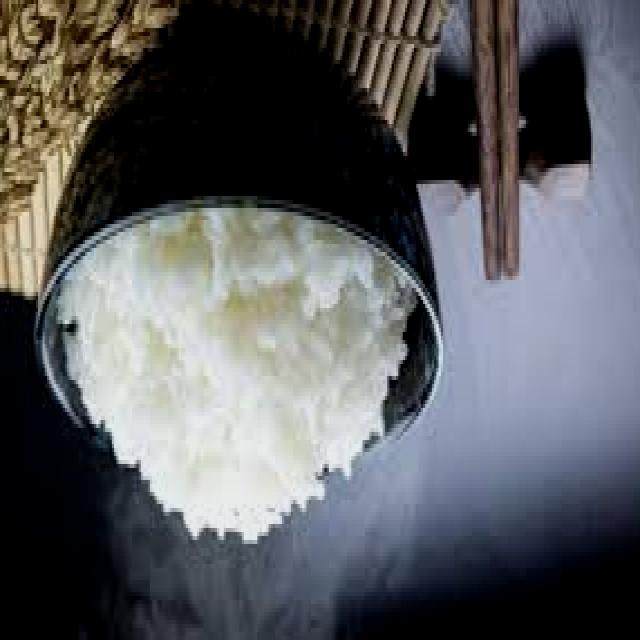nasi: (59, 222, 408, 538)
